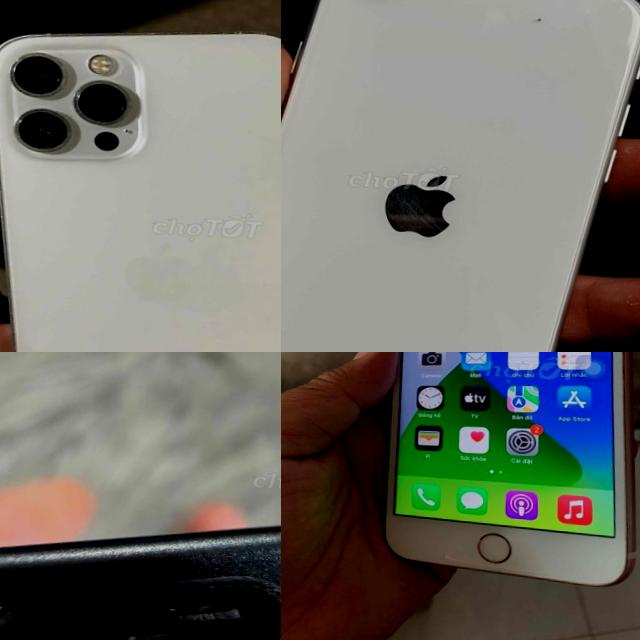scratch: (532, 9, 546, 26)
